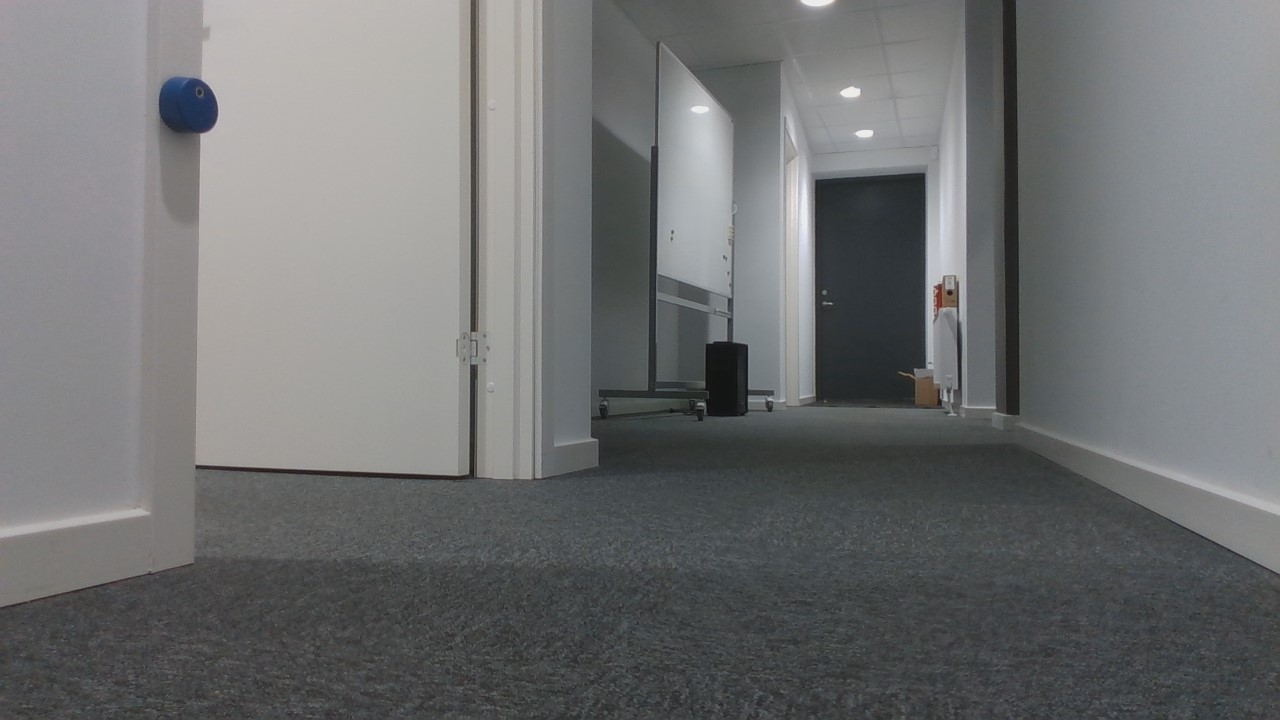alfa: (158, 75, 220, 137)
